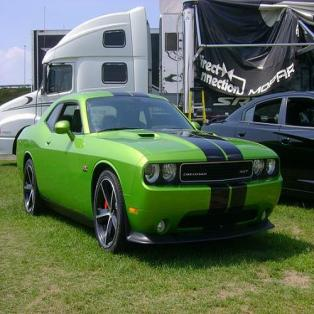Auto: (17, 92, 282, 254)
